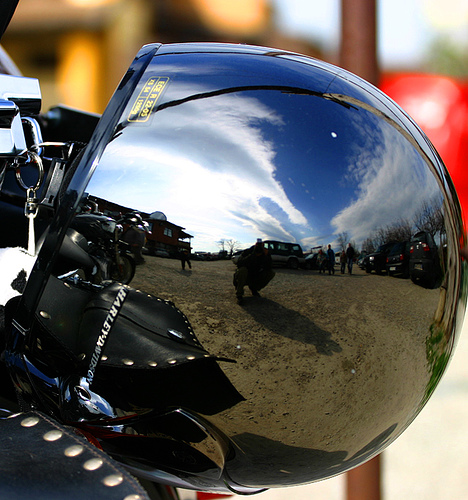helmet: (62, 20, 468, 478)
